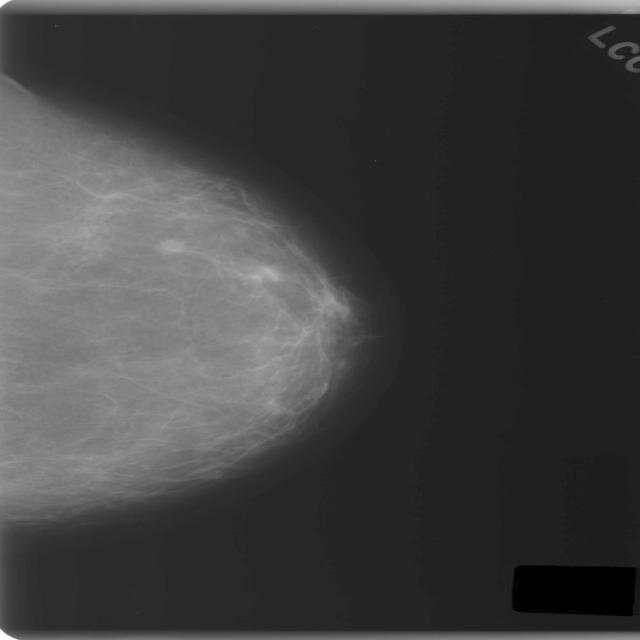tumour: (150, 236, 184, 254)
